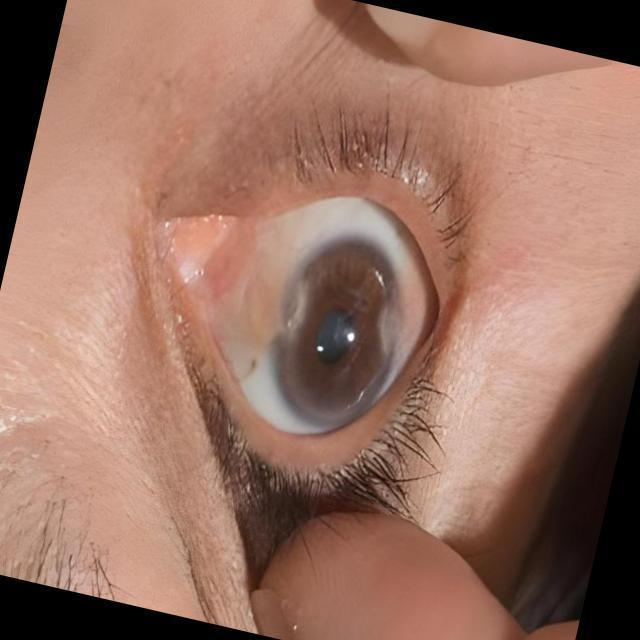Pterygium: (165, 204, 323, 382), (362, 252, 450, 372)
